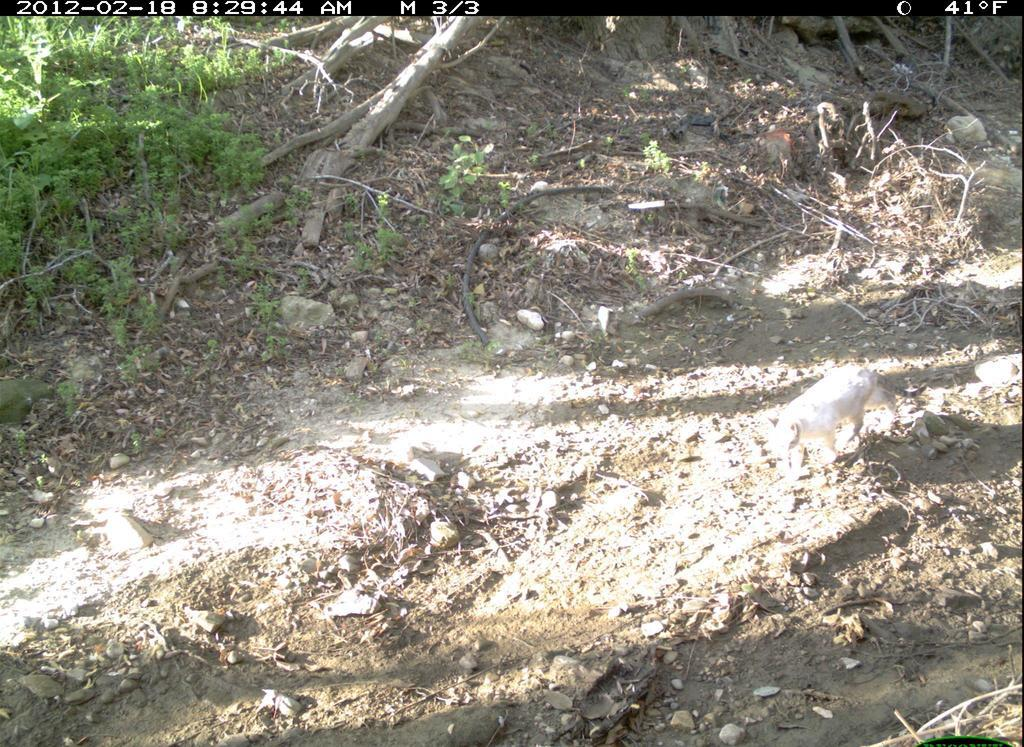cat: (752, 345, 940, 493)
